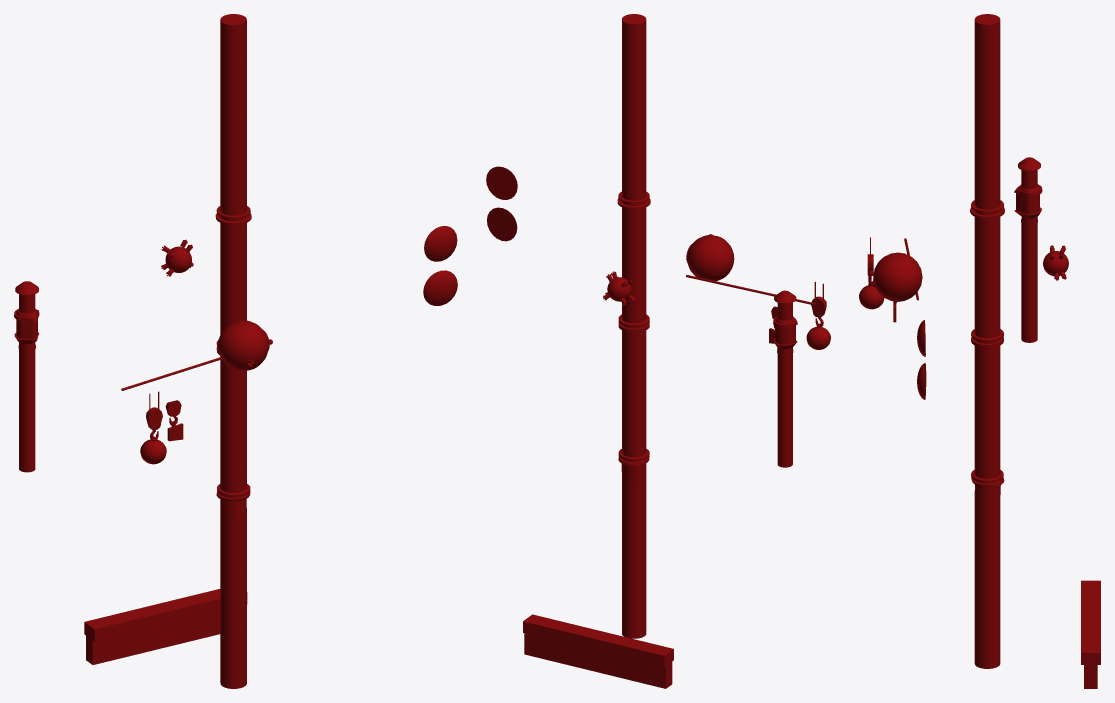
Rendered from redgroup.obj.
3 renders of one model, left to right at view 1: azimuth 30°, elevation 25°; view 2: azimuth 150°, elevation 25°; view 3: azimuth 270°, elevation 25°, orthographic. The views are drawn at different scales.
Parts seen in each view (by area): view 1: g default_default_1001; view 2: g default_default_1001; view 3: g default_default_1001.
Boxes of the visible parts, x1,y1,x2,y2 form: g default_default_1001: [14, 14, 457, 688]; g default_default_1001: [486, 14, 830, 688]; g default_default_1001: [859, 14, 1100, 688].
Bounding box in the file's own units: 33.68 × 55.03 × 18.73.
